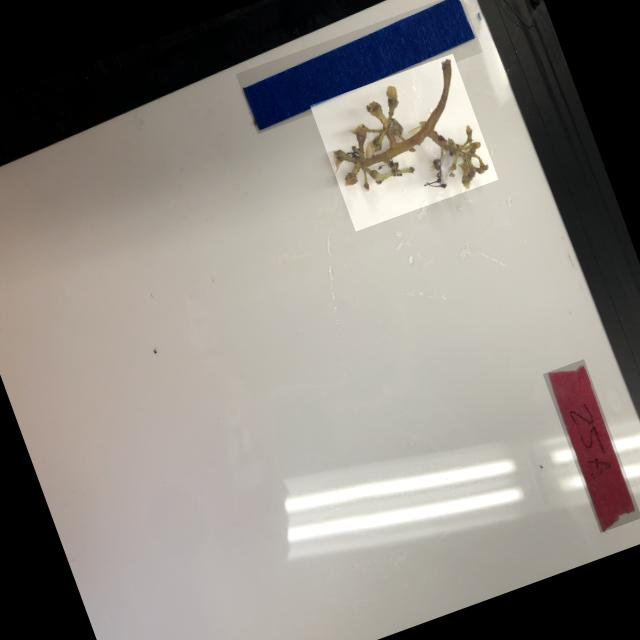index: (542, 359, 640, 533)
measure_label: (235, 0, 482, 134)
rachis_cluster: (309, 54, 498, 232)
